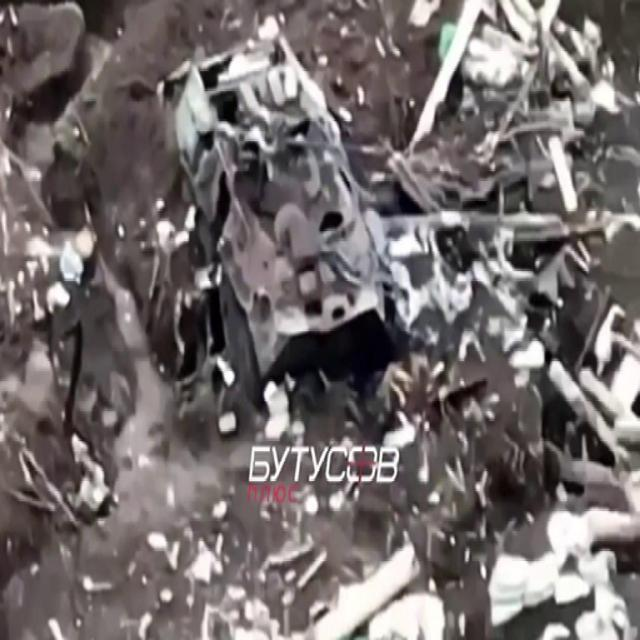APC-IFV: (154, 33, 401, 407)
